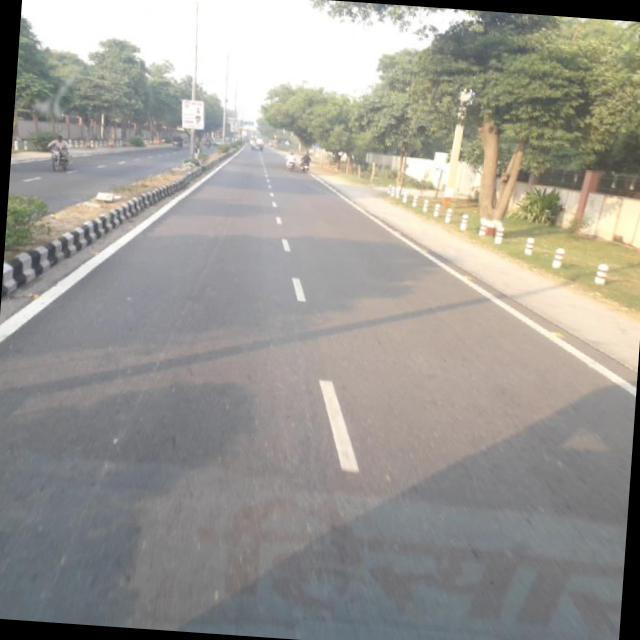pothole: (71, 202, 242, 572)
